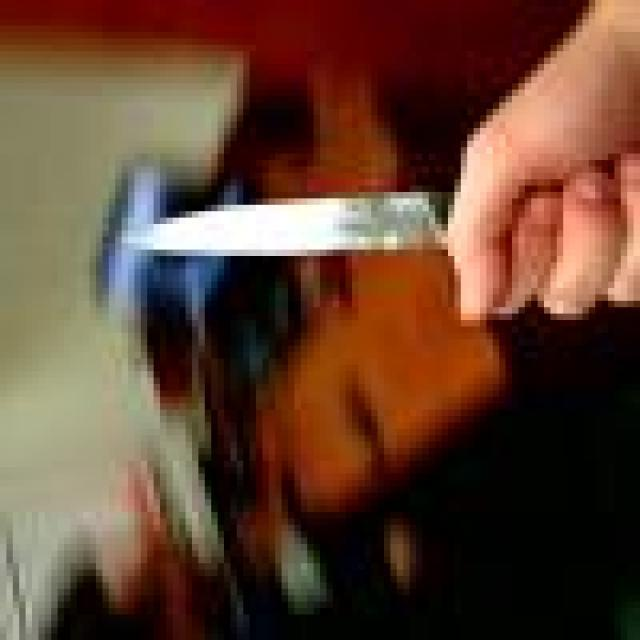faca: (96, 64, 640, 320)
